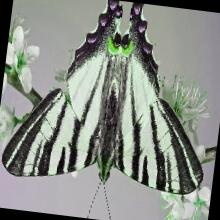butterfly: (2, 0, 203, 194)
